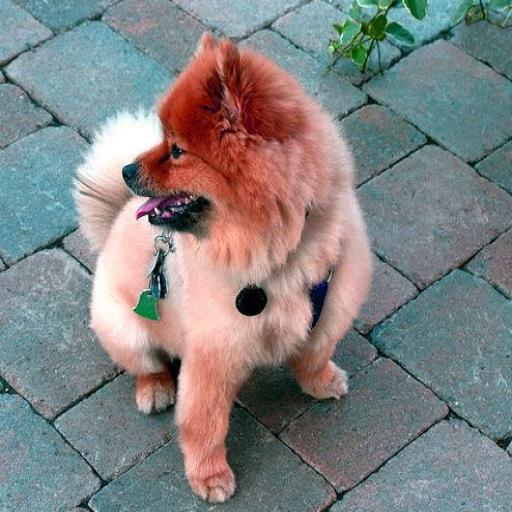dog_face: (119, 50, 280, 256)
